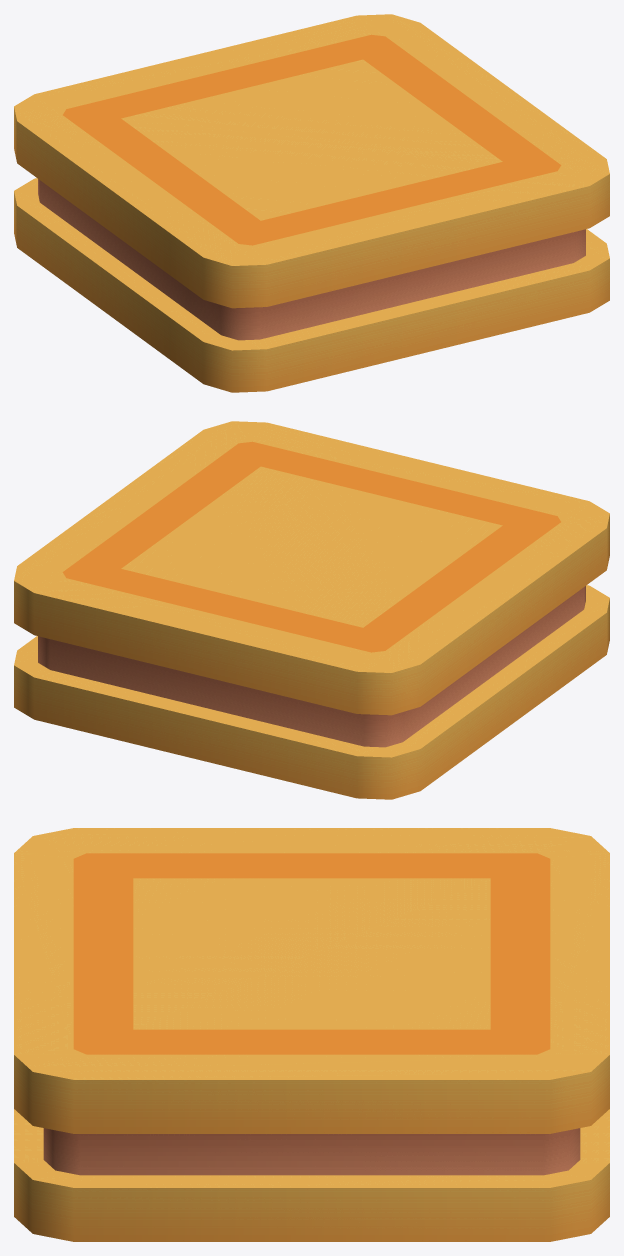
The model's file is block-moving.glb.
3 renders of one model, top to bottom at view 1: azimuth 30°, elevation 25°; view 2: azimuth 150°, elevation 25°; view 3: azimuth 270°, elevation 25°, orthographic. The views are drawn at different scales.
Visible parts, largest first — view 1: block-moving; view 2: block-moving; view 3: block-moving.
Boxes of the visible parts, x1,y1,x2,y2 form: block-moving: (14, 14, 609, 392); block-moving: (14, 421, 609, 799); block-moving: (14, 828, 609, 1241).
Size of the model in its own units: 1 by 0.3 by 1.
Materials: 1 (1 with a texture image).
